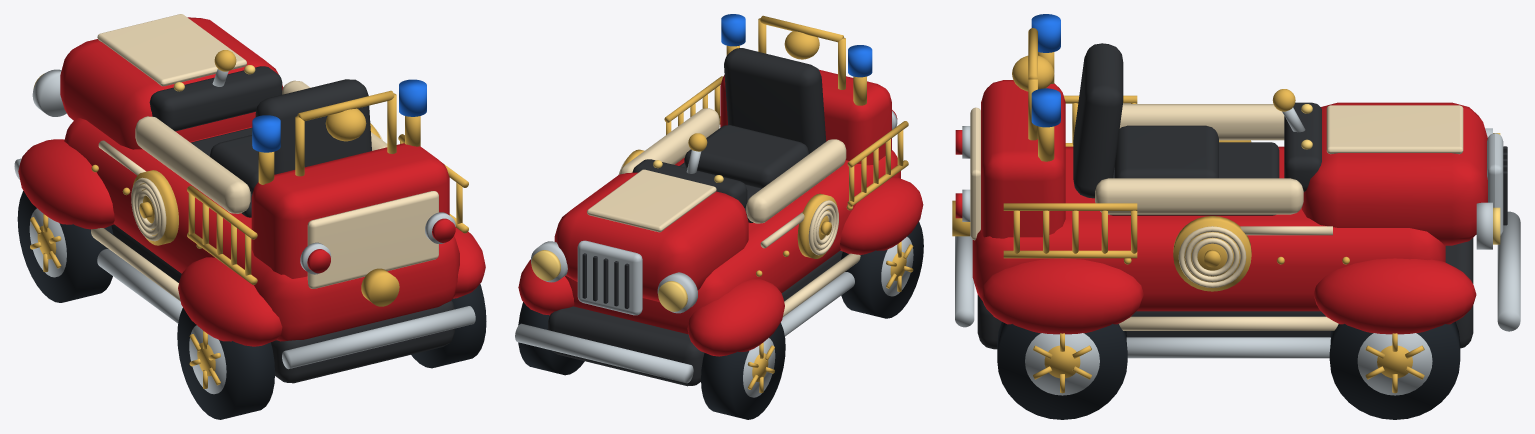
The model's file is brandweerauto-v2.glb.
The picture shows the model from 3 angles, left to right: view 1: azimuth 30°, elevation 25°; view 2: azimuth 150°, elevation 25°; view 3: azimuth 270°, elevation 25°; orthographic projection. The views are drawn at different scales.
Parts seen in each view (by area): view 1: Rode carrosserie, Achterbouw, Motorkap, Achterpaneel, Spatbord.001, Spatbord, Motorkap accent, Stoelleuning, Chassis, Tire.001, Dashboard, Cockpitrand (+29 smaller); view 2: Motorkap, Rode carrosserie, Stoelleuning, Chassis, Spatbord, Seat_Cushion, Motorkap accent, Achterbouw, Spatbord.001, Tire, Voorbumper, Cockpitrand (+26 smaller); view 3: Rode carrosserie, Motorkap, Achterbouw, Spatbord.002, Spatbord.003, Cockpitrand.001, Motorkap accent, Tire.002, Tire.003, Stoelleuning, Seat_Cushion, Chassis (+25 smaller).
Part boxes in pixels (x1,y1,x2,y2): Rode carrosserie: (64, 117, 459, 341); Achterbouw: (251, 143, 449, 278); Motorkap: (60, 17, 283, 149); Achterpaneel: (307, 191, 438, 288); Spatbord.001: (178, 257, 282, 346); Spatbord: (18, 139, 114, 229); Motorkap accent: (97, 14, 246, 86); Stoelleuning: (255, 79, 371, 174); Chassis: (111, 224, 454, 383); Tire.001: (177, 308, 274, 419); Dashboard: (149, 66, 282, 131); Cockpitrand: (135, 116, 250, 213); Motorkap: (554, 172, 748, 301); Rode carrosserie: (565, 150, 900, 334); Stoelleuning: (724, 48, 826, 153); Chassis: (548, 250, 842, 386); Spatbord: (687, 279, 784, 356); Seat_Cushion: (684, 125, 808, 188); Motorkap accent: (587, 169, 716, 232); Achterbouw: (720, 69, 891, 165); Spatbord.001: (840, 177, 923, 254); Tire: (701, 322, 785, 419); Voorbumper: (515, 323, 693, 383); Cockpitrand: (746, 139, 846, 223); Rode carrosserie: (972, 146, 1445, 311); Motorkap: (1302, 102, 1487, 245); Achterbouw: (981, 80, 1065, 238); Spatbord.002: (1313, 258, 1476, 334); Spatbord.003: (981, 258, 1143, 334); Cockpitrand.001: (1095, 178, 1303, 214); Motorkap accent: (1326, 105, 1463, 154); Tire.002: (1329, 321, 1460, 419); Tire.003: (997, 322, 1127, 419); Stoelleuning: (1073, 43, 1123, 198); Seat_Cushion: (1114, 125, 1218, 178); Chassis: (977, 238, 1473, 349).
Bounding box in the file's own units: 1.02 × 1.04 × 1.74.
